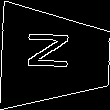N_E: (30, 36, 81, 78)
